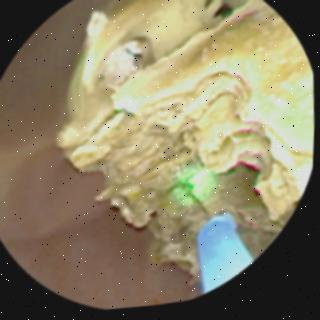fiber: (201, 221, 252, 296)
laser: (180, 175, 214, 205)
stone: (60, 0, 312, 280)
